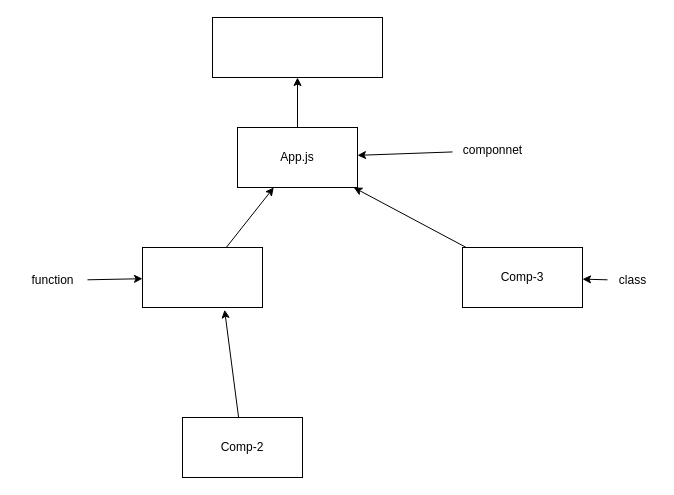
Some shapes in this 674 by 495 pixel diagram are drawn without their labels. The centre of each missing label's shape, as x and y in pixels:
"Comp-1" belongs at pixel 202 277.
"index.js / main.jsx" belongs at pixel 297 47.
